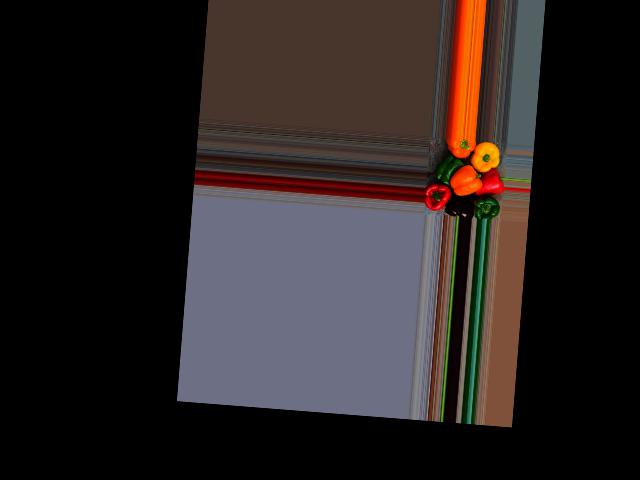bell_pepper: (436, 137, 475, 165)
